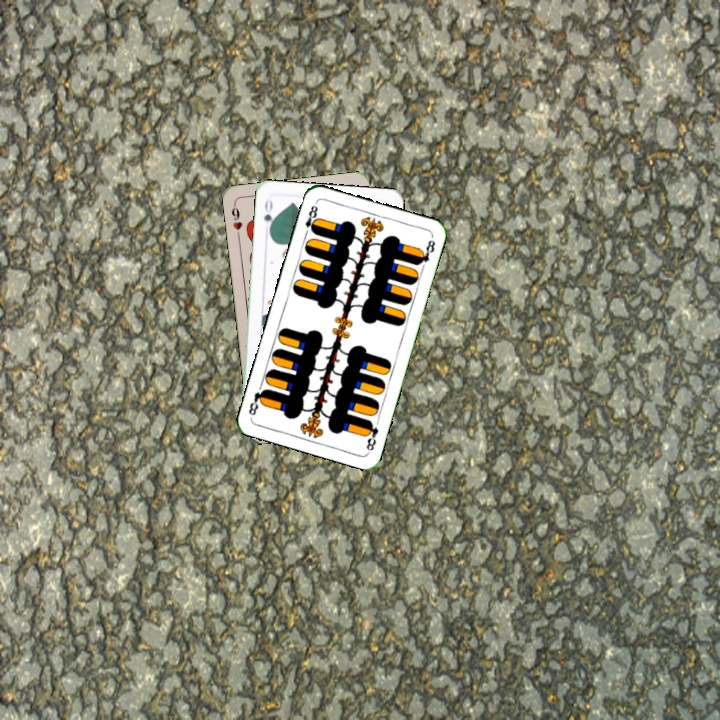E8: (301, 201, 321, 239), (361, 416, 381, 454)
GO: (259, 195, 277, 236)
H9: (227, 200, 245, 240)
